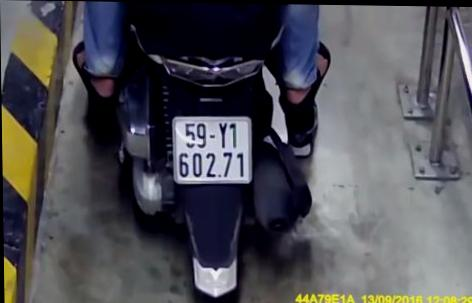License_Plate: (160, 113, 263, 193)
